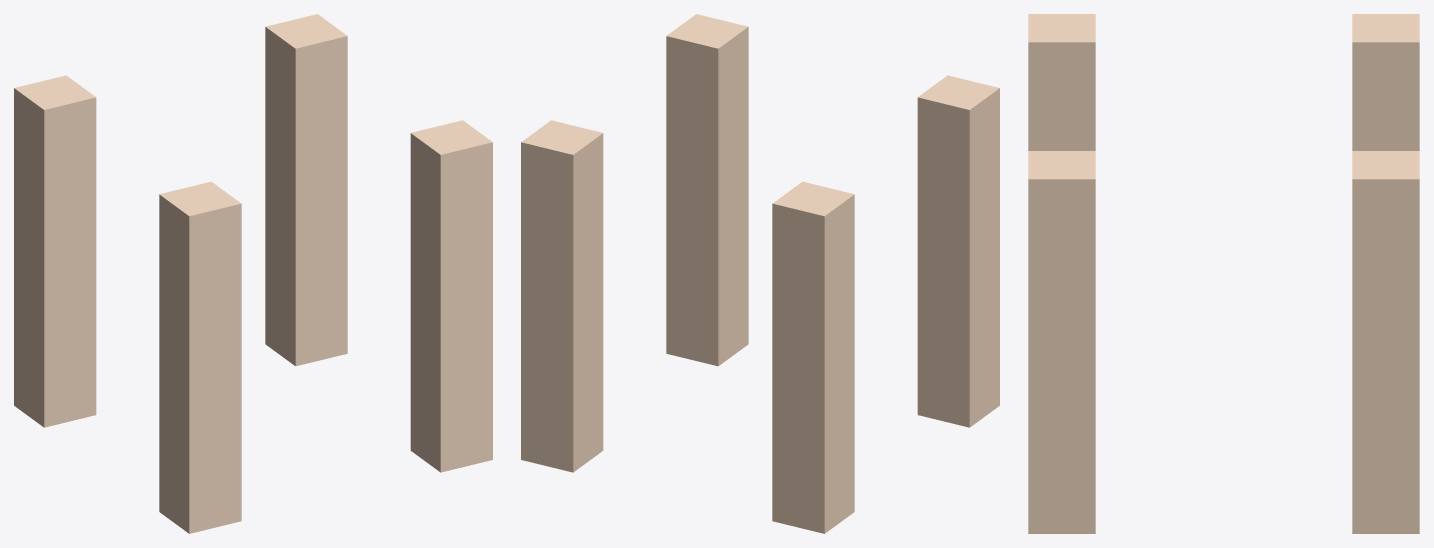
Rendered from Abstract_Castle_Block_Single_Pillars_Cream_01.fbx.
The picture shows the model from 3 angles, left to right: view 1: azimuth 30°, elevation 25°; view 2: azimuth 150°, elevation 25°; view 3: azimuth 270°, elevation 25°; orthographic projection. The views are drawn at different scales.
Parts seen in each view (by area): view 1: Model; view 2: Model; view 3: Model.
Boxes of the visible parts, bbox=[...] form: Model: bbox=[14, 14, 492, 533]; Model: bbox=[521, 14, 999, 533]; Model: bbox=[1028, 14, 1419, 533].
Bounding box in the file's own units: 1000 × 1000 × 1000.
